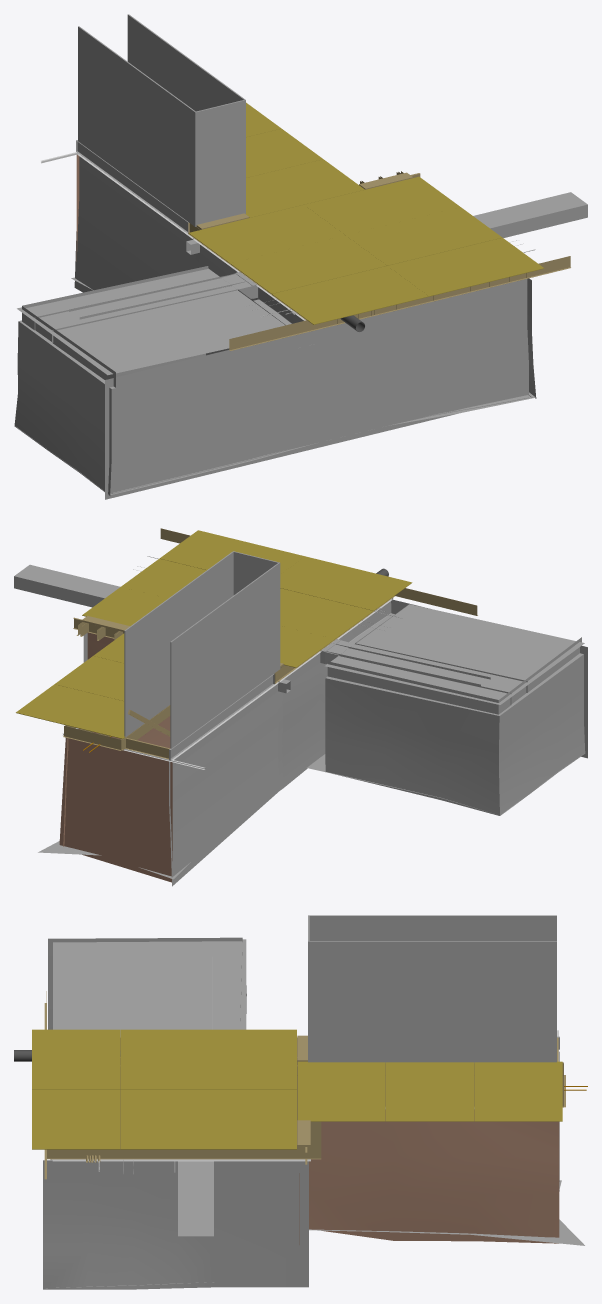
File: basement_test 1.fbx
3 views of the same model, one above another, from view 1: azimuth 30°, elevation 25°; view 2: azimuth 150°, elevation 25°; view 3: azimuth 270°, elevation 25° (orthographic). The views are drawn at different scales.
Visible parts, largest first — view 1: main_wall, left_wall, upstairs_wall, floor_04, ceiling_2x9s, panel_ceiling_4, panel_ceiling_3, panel_ceiling_5, panel_ceiling_2, panel_ceiling_6, panel_ceiling_1, panel_ceiling_7 (+4 smaller); view 2: left_wall, upstairs_wall, floor_04, laundry_wall, ceiling_2x9s, panel_ceiling_4, panel_ceiling_9, panel_ceiling_5, panel_ceiling_3, right_wall, panel_ceiling_8, panel_ceiling_2 (+7 smaller); view 3: upstairs_wall, right_wall, corner_wall, floor_04, panel_ceiling_2, panel_ceiling_3, panel_ceiling_4, panel_ceiling_5, panel_ceiling_1, panel_ceiling_6, panel_ceiling_9, panel_ceiling_8 (+5 smaller).
Boxes of the visible parts, left/top/right/bottom form: main_wall: left=105, top=279, right=528, bottom=499; left_wall: left=14, top=156, right=303, bottom=495; upstairs_wall: left=78, top=14, right=245, bottom=226; floor_04: left=17, top=268, right=285, bottom=375; ceiling_2x9s: left=76, top=140, right=570, bottom=350; panel_ceiling_4: left=272, top=266, right=428, bottom=324; panel_ceiling_3: left=388, top=237, right=544, bottom=296; panel_ceiling_5: left=230, top=235, right=386, bottom=293; panel_ceiling_2: left=346, top=207, right=502, bottom=265; panel_ceiling_6: left=188, top=205, right=344, bottom=263; panel_ceiling_1: left=304, top=176, right=460, bottom=235; panel_ceiling_7: left=245, top=159, right=364, bottom=217; left_wall: left=169, top=601, right=585, bottom=886; upstairs_wall: left=124, top=551, right=280, bottom=748; floor_04: left=325, top=604, right=584, bottom=704; laundry_wall: left=59, top=737, right=172, bottom=882; ceiling_2x9s: left=63, top=528, right=477, bottom=760; panel_ceiling_4: left=280, top=556, right=412, bottom=610; panel_ceiling_9: left=16, top=684, right=124, bottom=738; panel_ceiling_5: left=280, top=588, right=373, bottom=639; panel_ceiling_3: left=160, top=530, right=304, bottom=574; right_wall: left=14, top=564, right=120, bottom=662; panel_ceiling_8: left=55, top=656, right=124, bottom=700; panel_ceiling_2: left=121, top=558, right=206, bottom=598; upstairs_wall: left=308, top=915, right=556, bottom=1062; right_wall: left=43, top=1160, right=308, bottom=1289; corner_wall: left=299, top=1109, right=559, bottom=1244; floor_04: left=53, top=939, right=246, bottom=1036; panel_ceiling_2: left=120, top=1089, right=208, bottom=1149; panel_ceiling_3: left=32, top=1089, right=120, bottom=1149; panel_ceiling_4: left=32, top=1029, right=120, bottom=1089; panel_ceiling_5: left=120, top=1029, right=208, bottom=1089; panel_ceiling_1: left=209, top=1089, right=296, bottom=1149; panel_ceiling_6: left=209, top=1029, right=296, bottom=1089; panel_ceiling_9: left=474, top=1061, right=562, bottom=1121; panel_ceiling_8: left=386, top=1062, right=474, bottom=1121.
Size of the model in its own units: 1147 by 529 by 992.
